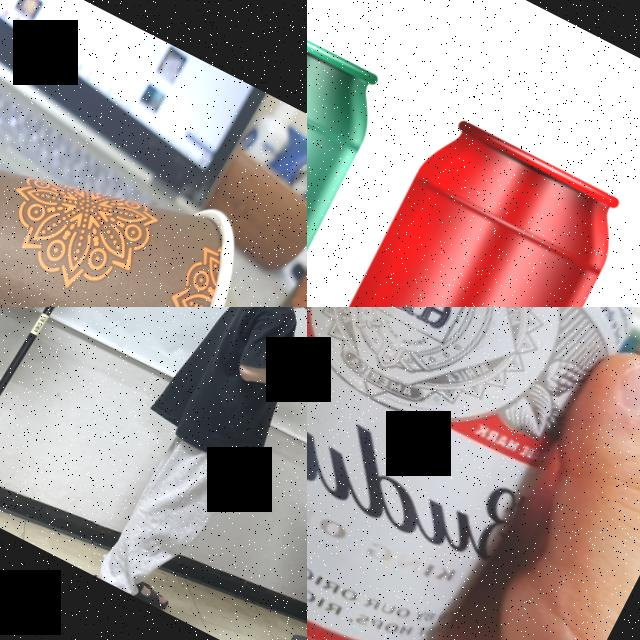can: (307, 307, 640, 640), (307, 106, 640, 307), (307, 0, 397, 307)
cup: (0, 103, 272, 307)
